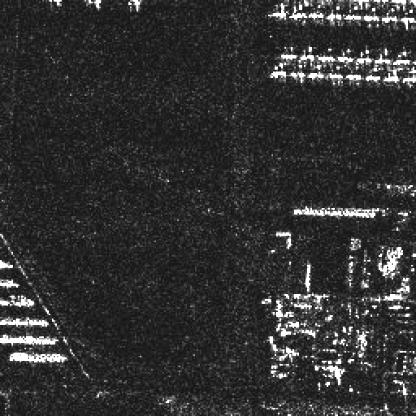airplane: (304, 64, 323, 80), (380, 68, 400, 83), (268, 62, 286, 78), (278, 45, 296, 61), (364, 5, 380, 23), (362, 67, 382, 81), (291, 3, 307, 20), (325, 65, 343, 80), (298, 45, 314, 61), (317, 45, 333, 61), (335, 47, 351, 63), (354, 47, 370, 63), (382, 6, 398, 22), (393, 50, 410, 65), (288, 65, 304, 80), (309, 3, 325, 18), (344, 66, 361, 80), (344, 7, 361, 21), (273, 3, 288, 18), (374, 49, 390, 63), (327, 6, 343, 20), (402, 8, 414, 24), (402, 68, 414, 83), (372, 0, 392, 5), (390, 0, 406, 6), (351, 0, 369, 3), (317, 0, 333, 3), (299, 0, 315, 2)
